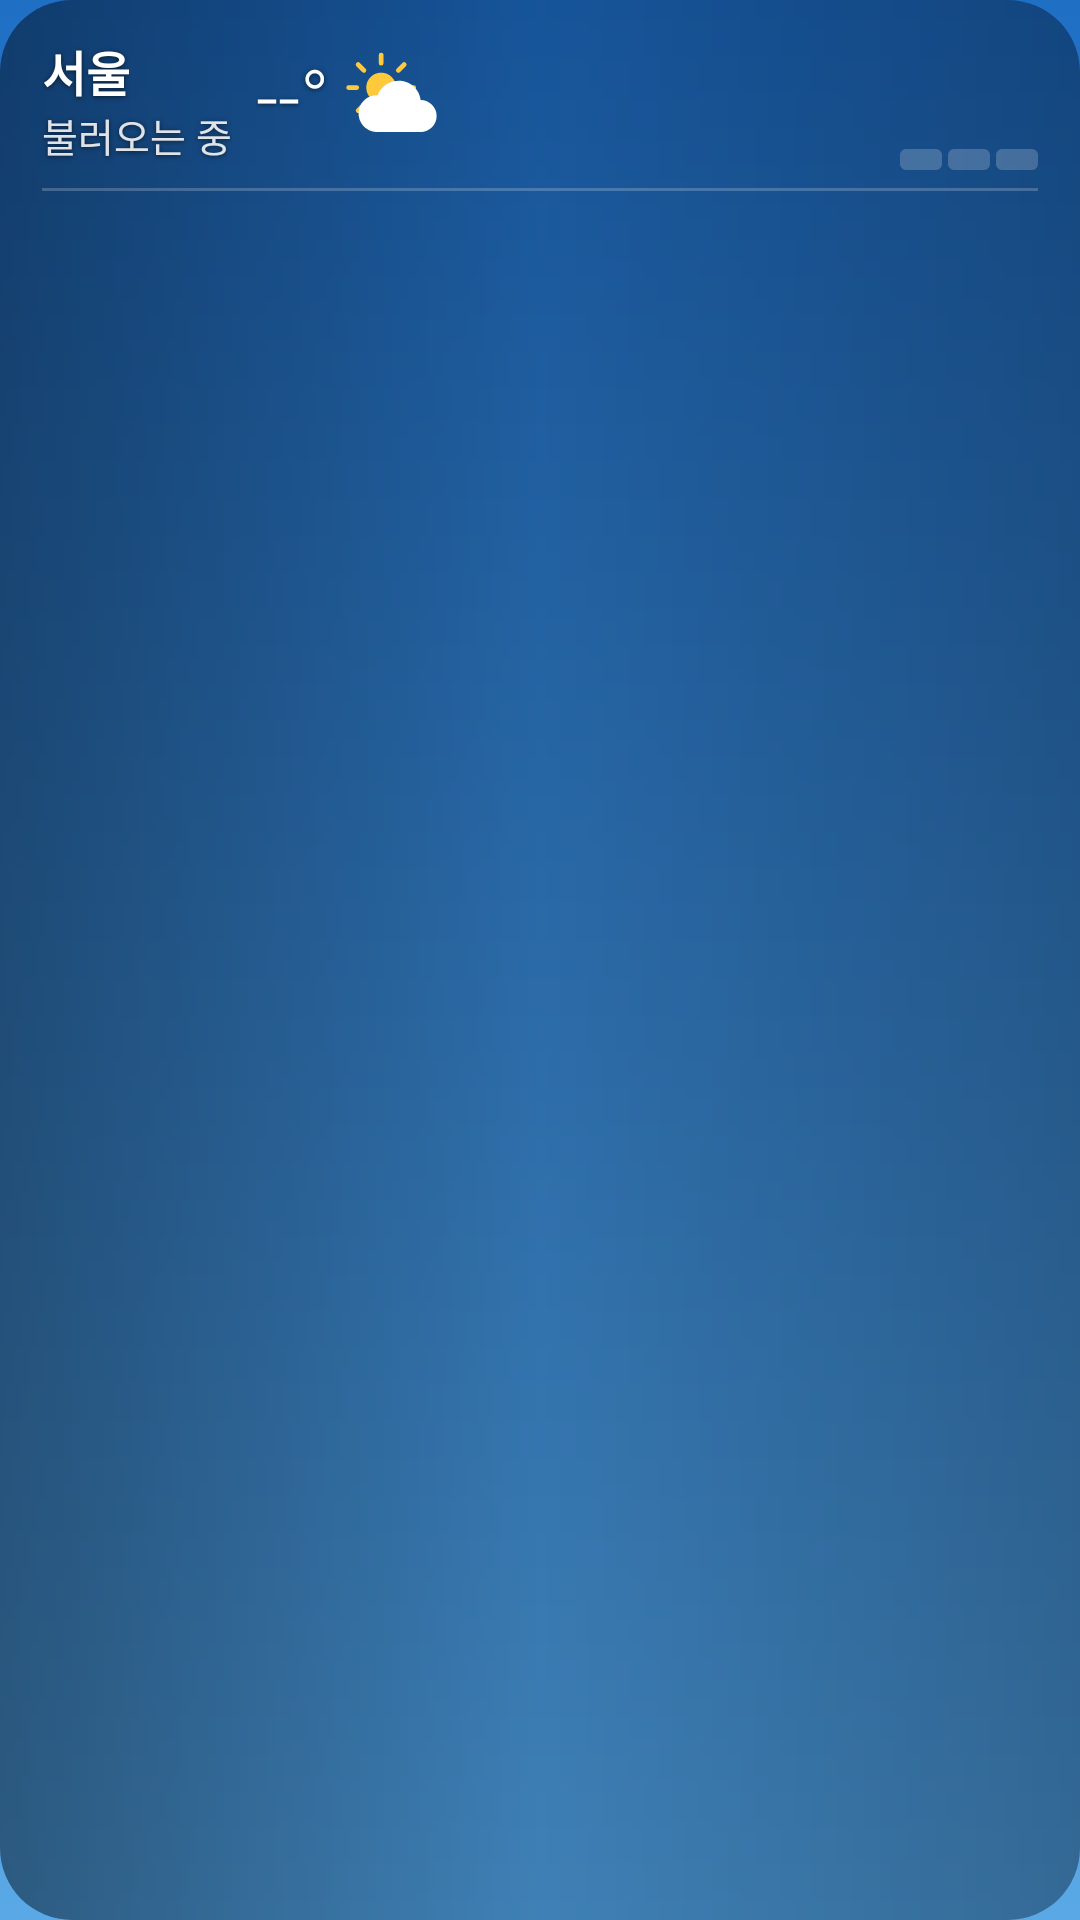

Point at icon controls on the screen. Image size 1080px x 1920px, points as [x,y].
partly day: [391,92]
